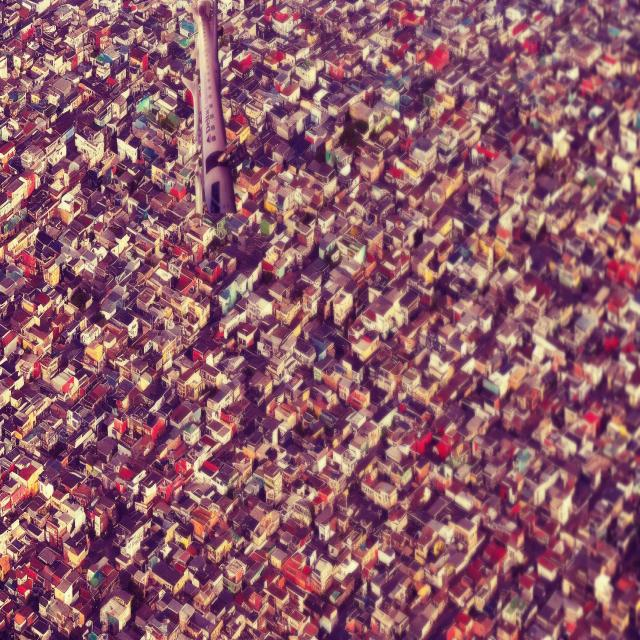airplane: (186, 0, 239, 216)
